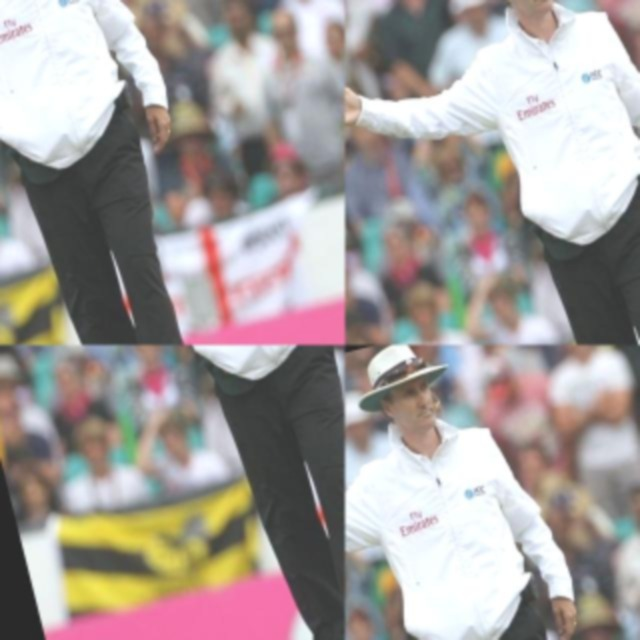No_Ball: (18, 0, 345, 332), (345, 345, 640, 640), (345, 0, 580, 345), (0, 345, 230, 581)
